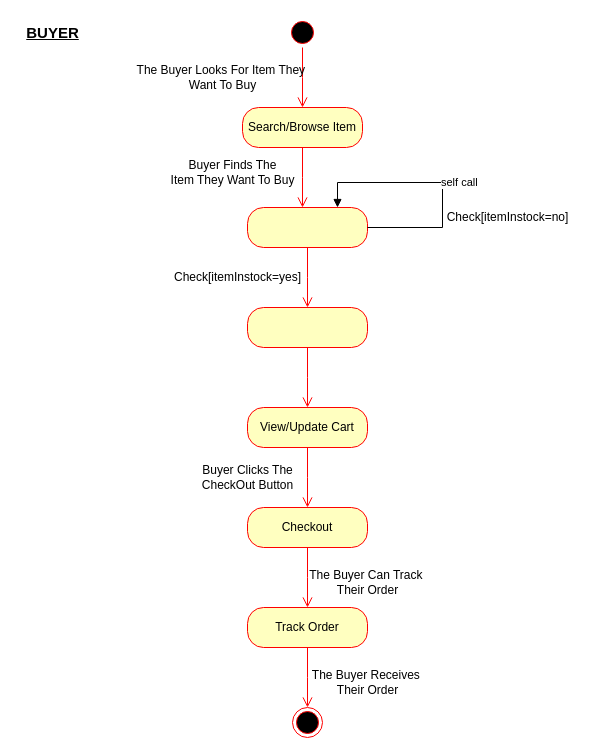
This 594x755 diagram has some shape labels left out. Here are the shapes that lost their labels. From the top down, the centre of each, then its label:
At point (307, 227): "Item Selection".
At point (307, 327): "Add Item To Cart".
